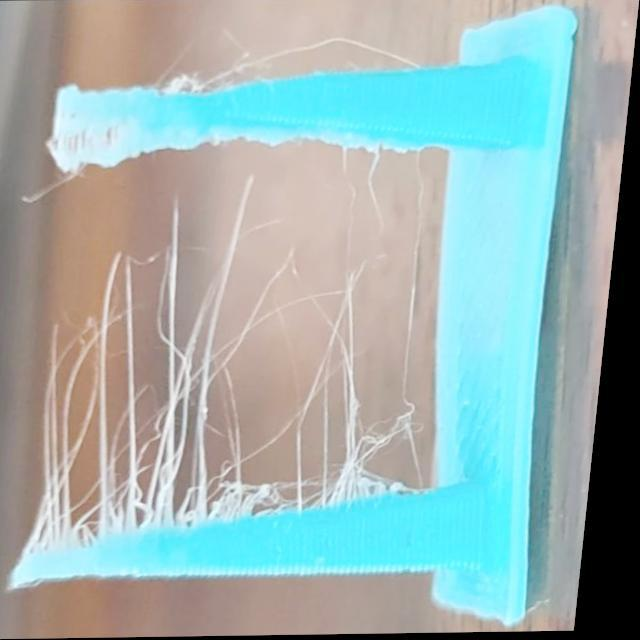spaghetti: (161, 60, 221, 100)
stringing: (26, 140, 463, 554)
